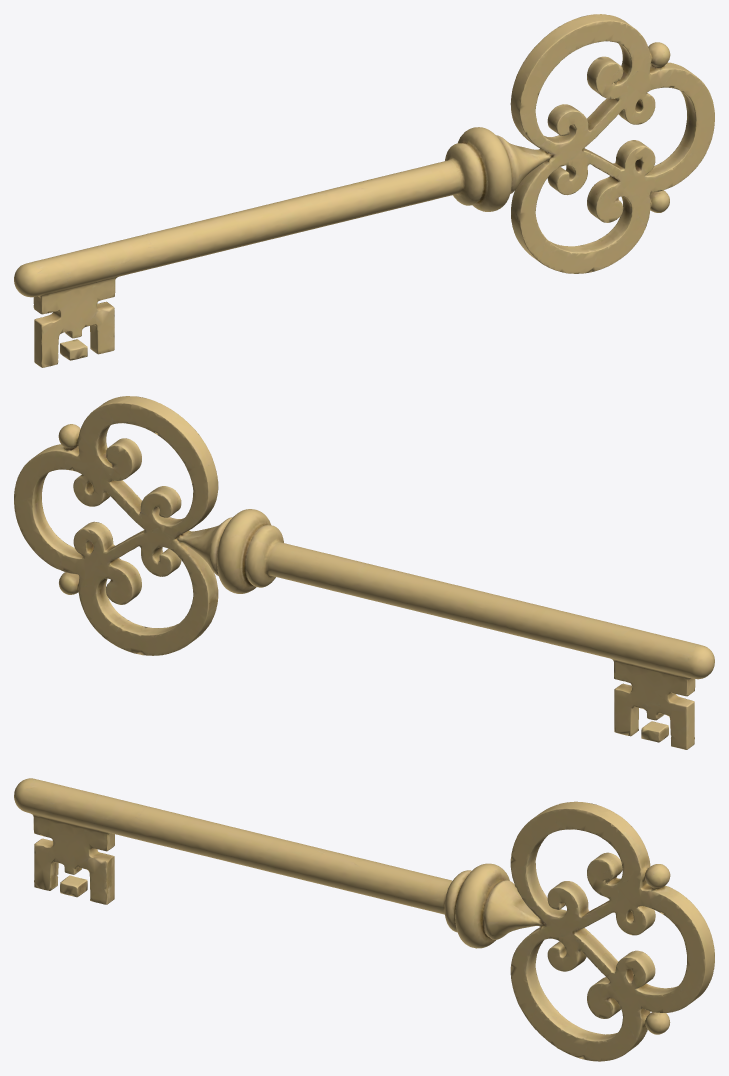
File: key.glb
The picture shows the model from 3 angles, top to bottom: view 1: azimuth 30°, elevation 25°; view 2: azimuth 150°, elevation 25°; view 3: azimuth 330°, elevation 25°; orthographic projection.
Parts seen in each view (by area): view 1: mesh_node; view 2: mesh_node; view 3: mesh_node.
Part boxes in pixels (bbox=[...]): mesh_node: bbox=[14, 14, 714, 367]; mesh_node: bbox=[14, 396, 714, 749]; mesh_node: bbox=[14, 778, 714, 1061].
Bounding box in the file's own units: 1.9 × 0.6522 × 0.2011.
1 material, 1 textured.
